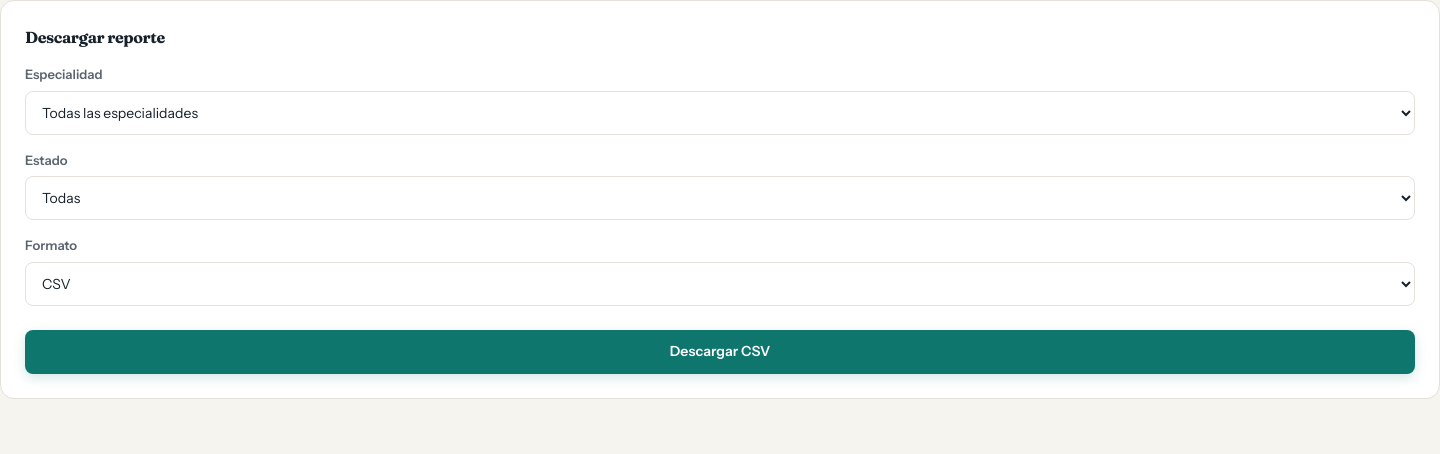
Test case: ReportDownloadCard › displays generic error message on network failure
Click the button "Descargar CSV". click: click(720, 352)
box: [25,330,1415,374]
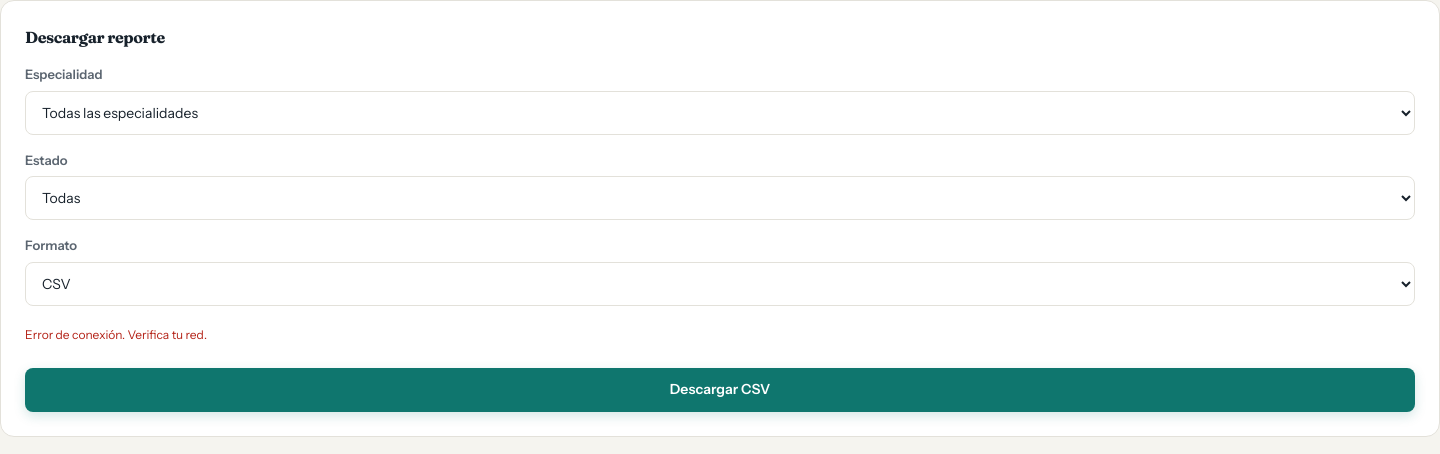
Expected: the text "Error de conexión. Verifica tu red." is shown, [25,326,207,342]
